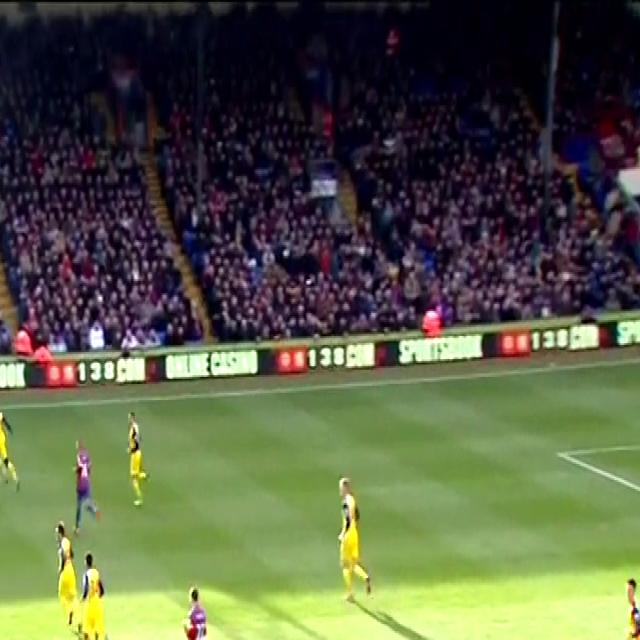soccer-player: (336, 452, 374, 615), (76, 537, 115, 640), (52, 513, 82, 639), (71, 430, 102, 530), (123, 407, 152, 505), (177, 574, 220, 640), (613, 560, 639, 640), (0, 391, 18, 491)
